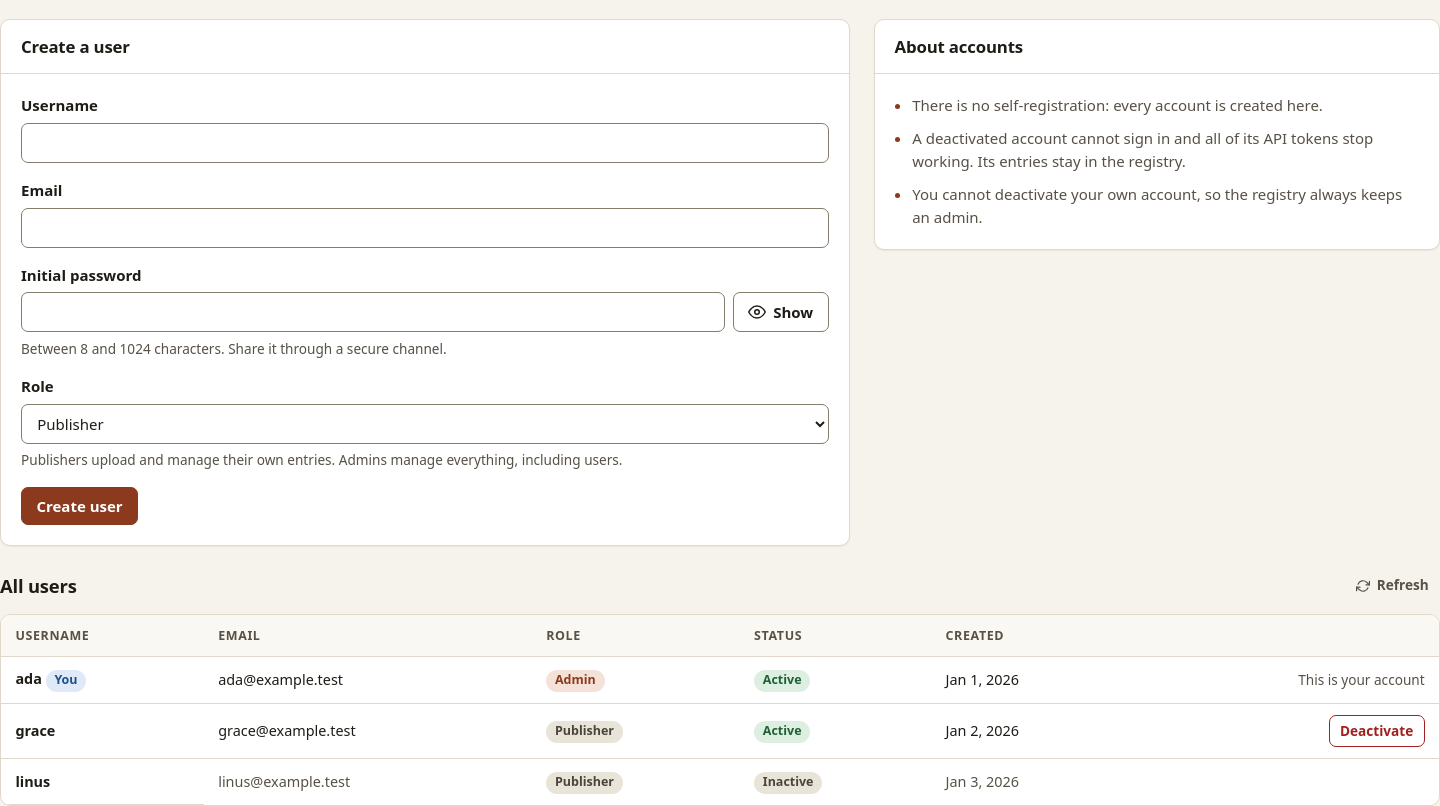
Test case: Users: deactivating › asks for confirmation and then deactivates another user
The width and height of the screenshot is (1440, 806).
(page scrolled)
Expected: the table is shown, [1,614,1439,805]
Click the button named "Deactivate grace": (1377, 731) [1329,715,1425,747]
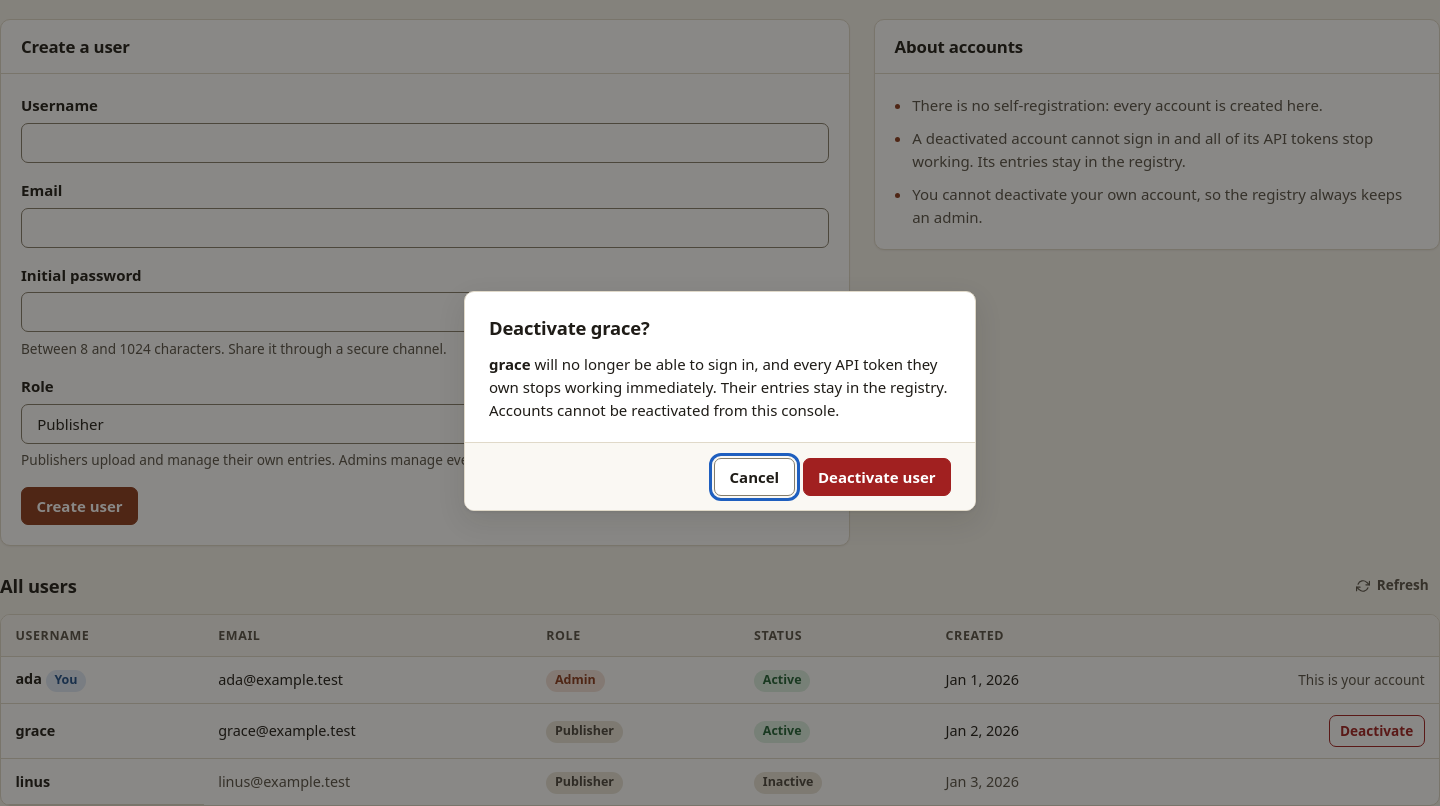
Now the dialog "Deactivate grace?" shows "no longer be able to sign in", box [489,354,947,420]
Click the button "Deactivate user": (877, 477) [802,458,951,496]
(page scrolled)
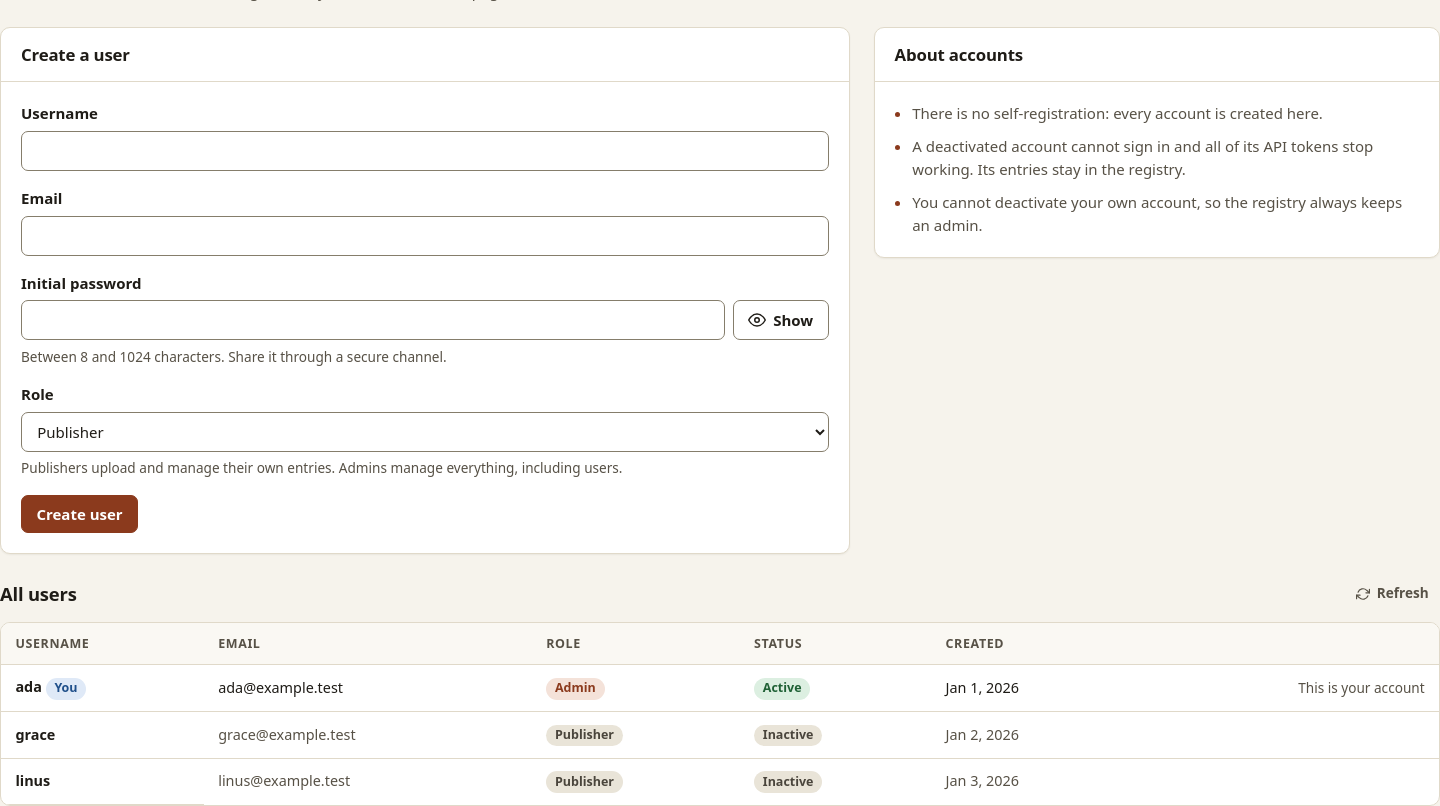
Now the text "Inactive" in the row of "grace@example.test" is shown, box [763,726,814,743]
Now the dialog is gone
